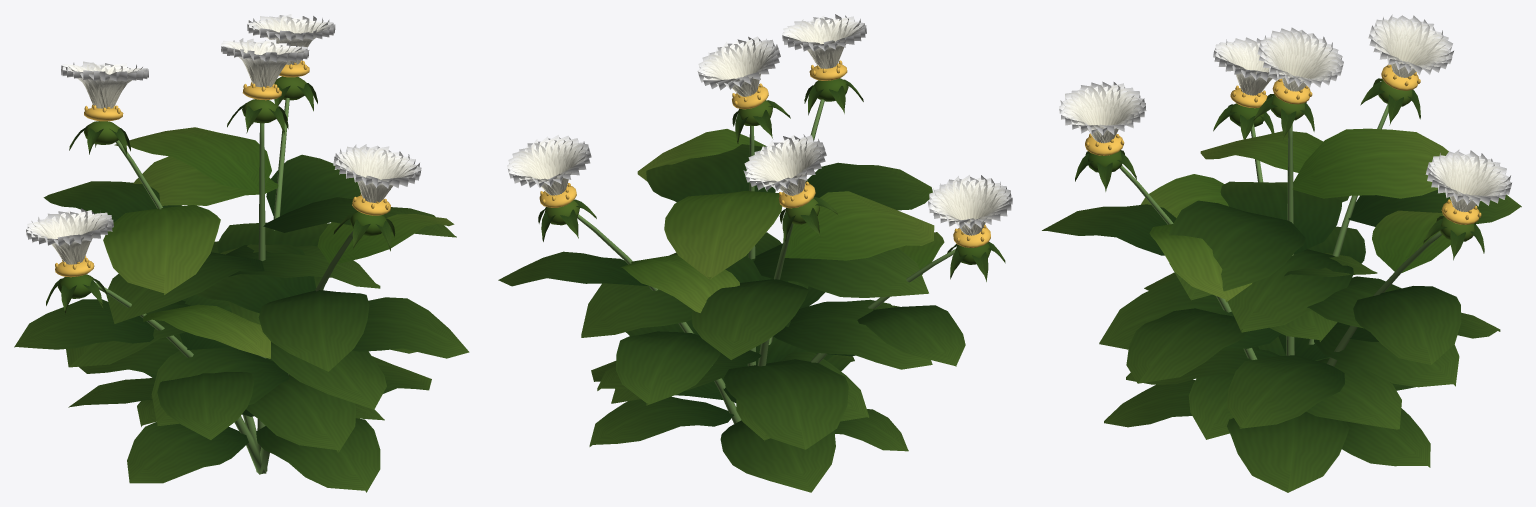
Rendered from daisy-09-lod.glb.
The picture shows the model from 3 angles, left to right: view 1: azimuth 30°, elevation 25°; view 2: azimuth 150°, elevation 25°; view 3: azimuth 270°, elevation 25°; orthographic projection. The views are drawn at different scales.
Parts seen in each view (by area): view 1: daisy_stage_09_leaf_veins.017, daisy_stage_09_young_leaf.017, daisy_stage_09_daisy_petal.017, daisy_stage_09_stem_fibres.017, daisy_stage_09_pollen_granules.017; view 2: daisy_stage_09_leaf_veins.017, daisy_stage_09_young_leaf.017, daisy_stage_09_daisy_petal.017, daisy_stage_09_pollen_granules.017, daisy_stage_09_stem_fibres.017; view 3: daisy_stage_09_leaf_veins.017, daisy_stage_09_young_leaf.017, daisy_stage_09_daisy_petal.017, daisy_stage_09_stem_fibres.017, daisy_stage_09_pollen_granules.017.
Part boxes in pixels (x1,y1,x2,y2): daisy_stage_09_leaf_veins.017: [14, 83, 469, 492]; daisy_stage_09_young_leaf.017: [58, 76, 454, 358]; daisy_stage_09_daisy_petal.017: [26, 14, 421, 264]; daisy_stage_09_stem_fibres.017: [95, 98, 353, 474]; daisy_stage_09_pollen_granules.017: [55, 60, 390, 277]; daisy_stage_09_leaf_veins.017: [498, 79, 1005, 492]; daisy_stage_09_young_leaf.017: [544, 78, 990, 312]; daisy_stage_09_daisy_petal.017: [507, 14, 1012, 235]; daisy_stage_09_pollen_granules.017: [539, 60, 990, 247]; daisy_stage_09_stem_fibres.017: [577, 99, 955, 423]; daisy_stage_09_leaf_veins.017: [1042, 78, 1521, 492]; daisy_stage_09_young_leaf.017: [1088, 80, 1474, 302]; daisy_stage_09_daisy_petal.017: [1059, 14, 1511, 211]; daisy_stage_09_stem_fibres.017: [1119, 104, 1442, 366]; daisy_stage_09_pollen_granules.017: [1085, 64, 1481, 224].
Size of the model in its own units: 0.3754 by 0.3527 by 0.3606.
5 materials, 3 textured.
